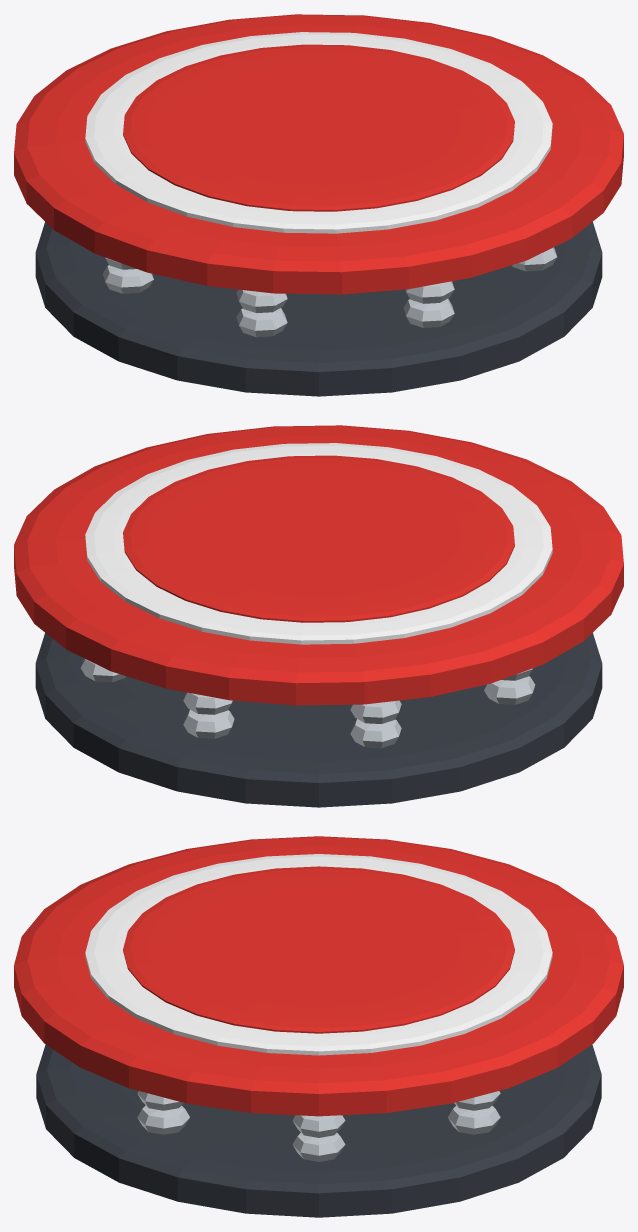
File: spring.glb
3 views of the same model, one above another, from view 1: azimuth 30°, elevation 25°; view 2: azimuth 150°, elevation 25°; view 3: azimuth 270°, elevation 25° (orthographic).
Parts seen in each view (by area): view 1: spring; view 2: spring; view 3: spring.
Part boxes in pixels (<box>): spring: <box>14,14,623,396</box>; spring: <box>14,425,623,807</box>; spring: <box>14,836,623,1217</box>.
Bounding box in the file's own units: 1.61 × 0.465 × 1.61.
